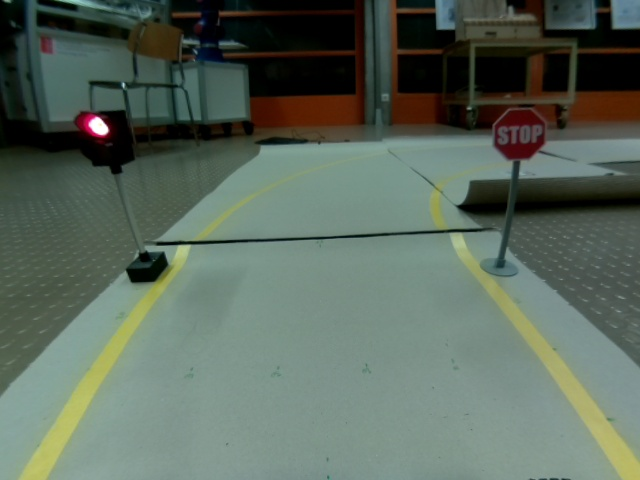stop: (492, 105, 547, 161)
trafficLightRed: (73, 109, 136, 168)
